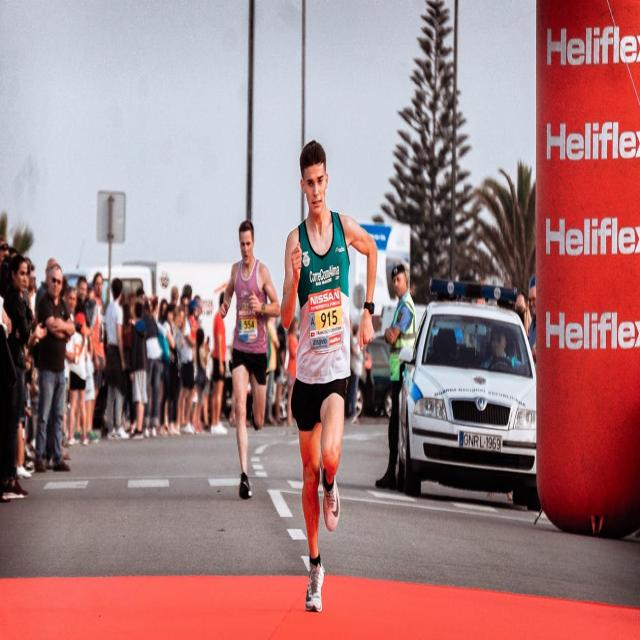running: (280, 138, 379, 613), (218, 218, 279, 501)
